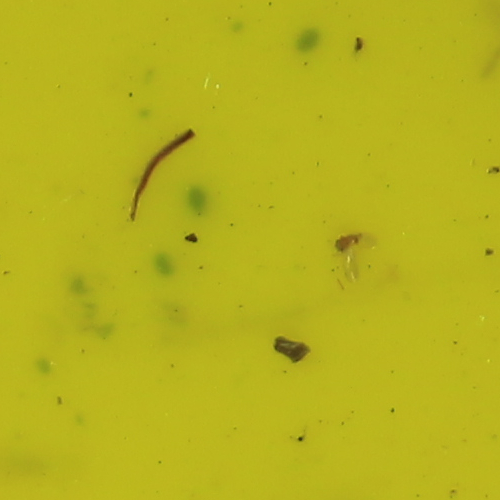psylla: (330, 230, 372, 254)
